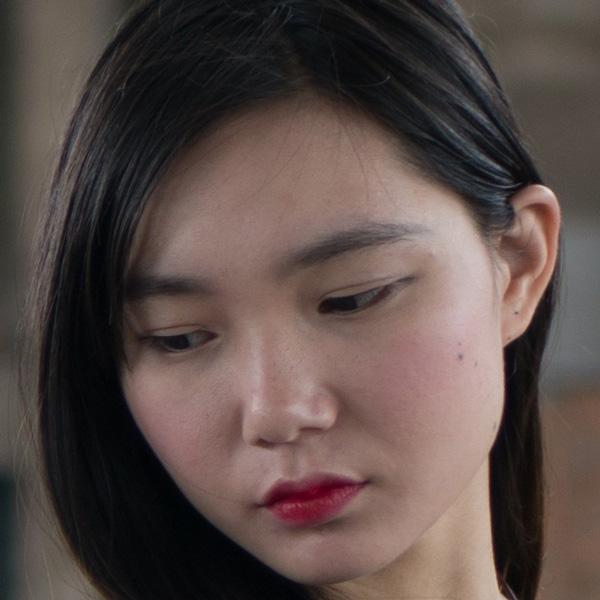Eyes: (309, 263, 418, 329), (128, 311, 232, 365)
